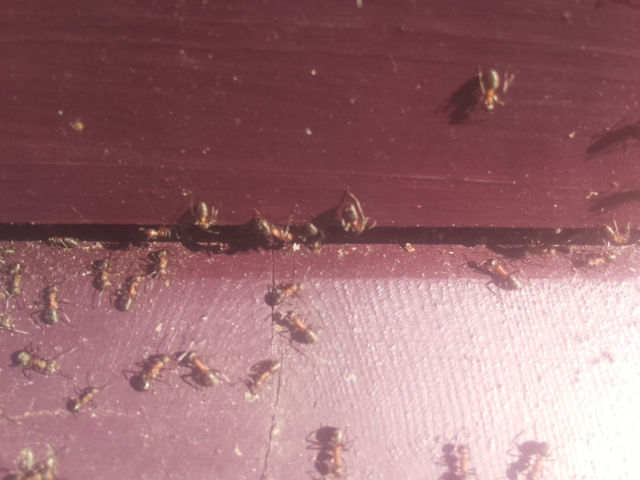ant: (122, 346, 180, 398), (307, 423, 353, 480), (239, 350, 284, 406), (245, 211, 302, 251), (182, 348, 228, 392), (5, 347, 67, 378), (474, 62, 506, 121), (59, 380, 109, 417), (506, 439, 552, 479), (113, 267, 148, 319), (283, 303, 320, 351), (429, 439, 470, 480), (335, 196, 371, 240), (481, 252, 518, 293), (188, 195, 224, 235), (40, 281, 62, 325), (134, 223, 175, 244), (145, 251, 173, 281)
